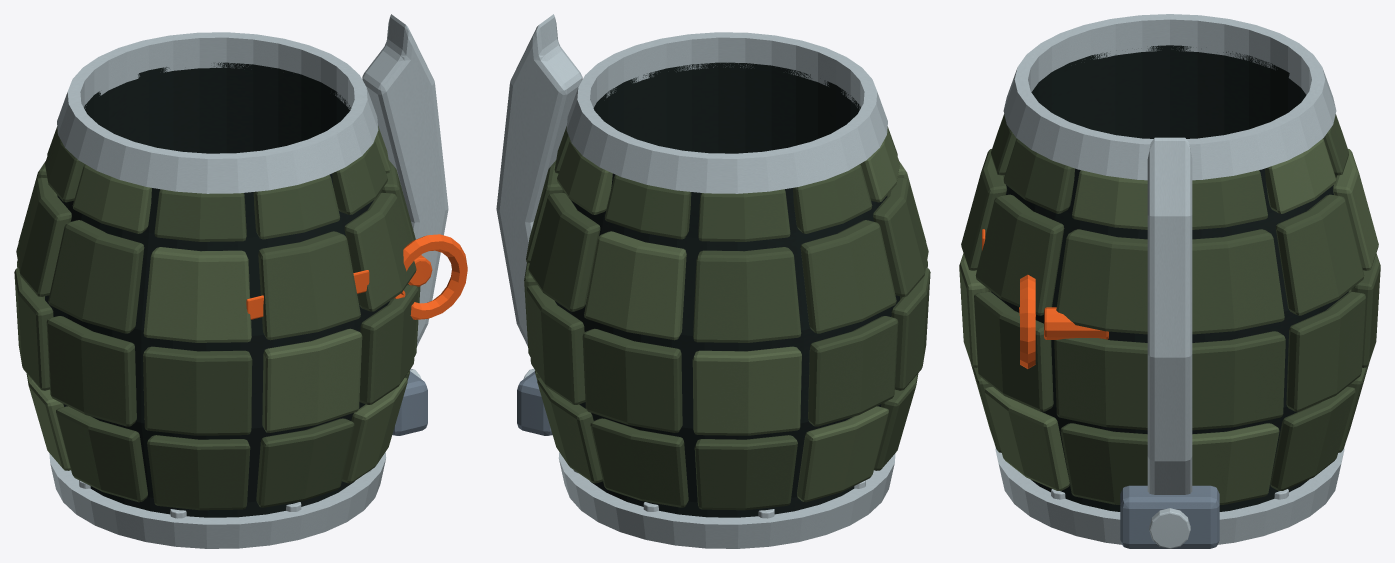
Rendered from Bakugo_Gauntlet.fbx.
The picture shows the model from 3 angles, left to right: view 1: azimuth 30°, elevation 25°; view 2: azimuth 150°, elevation 25°; view 3: azimuth 270°, elevation 25°; orthographic projection. The views are drawn at different scales.
Visible parts, largest first — view 1: Bakugo_Gauntlet__Body__olive, Bakugo_Gauntlet__Body__silver, Bakugo_Gauntlet__Body__groove, Bakugo_Gauntlet__Body__olive_light, Bakugo_Gauntlet__Pin__orange, Bakugo_Gauntlet__Body__bat_edge, Bakugo_Gauntlet__Body__orange; view 2: Bakugo_Gauntlet__Body__olive, Bakugo_Gauntlet__Body__silver, Bakugo_Gauntlet__Body__groove, Bakugo_Gauntlet__Body__olive_light, Bakugo_Gauntlet__Body__bat_edge; view 3: Bakugo_Gauntlet__Body__olive, Bakugo_Gauntlet__Body__silver, Bakugo_Gauntlet__Body__groove, Bakugo_Gauntlet__Body__olive_light, Bakugo_Gauntlet__Body__bat_edge, Bakugo_Gauntlet__Pin__orange.
Boxes of the visible parts, left/top/right/bottom form: Bakugo_Gauntlet__Body__olive: left=14, top=126, right=420, bottom=510; Bakugo_Gauntlet__Body__silver: left=49, top=14, right=448, bottom=548; Bakugo_Gauntlet__Body__groove: left=45, top=62, right=389, bottom=517; Bakugo_Gauntlet__Body__olive_light: left=17, top=126, right=407, bottom=483; Bakugo_Gauntlet__Pin__orange: left=394, top=234, right=467, bottom=319; Bakugo_Gauntlet__Body__bat_edge: left=392, top=371, right=427, bottom=435; Bakugo_Gauntlet__Body__orange: left=246, top=270, right=369, bottom=319; Bakugo_Gauntlet__Body__olive: left=524, top=126, right=930, bottom=510; Bakugo_Gauntlet__Body__silver: left=496, top=14, right=895, bottom=548; Bakugo_Gauntlet__Body__groove: left=555, top=62, right=899, bottom=517; Bakugo_Gauntlet__Body__olive_light: left=535, top=129, right=926, bottom=502; Bakugo_Gauntlet__Body__bat_edge: left=517, top=371, right=552, bottom=435; Bakugo_Gauntlet__Body__olive: left=961, top=114, right=1380, bottom=504; Bakugo_Gauntlet__Body__silver: left=995, top=14, right=1344, bottom=548; Bakugo_Gauntlet__Body__groove: left=991, top=45, right=1348, bottom=511; Bakugo_Gauntlet__Body__olive_light: left=959, top=138, right=1378, bottom=504; Bakugo_Gauntlet__Body__bat_edge: left=1120, top=485, right=1219, bottom=548; Bakugo_Gauntlet__Pin__orange: left=1019, top=274, right=1108, bottom=368.
Size of the model in its own units: 2.34 by 2.34 by 2.08.
Materials: 6 (6 with a texture image).
